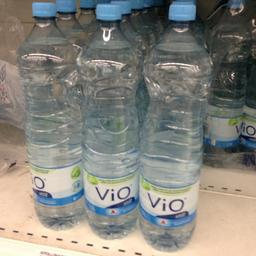water: (135, 2, 209, 250), (74, 2, 140, 238), (15, 0, 81, 231)
